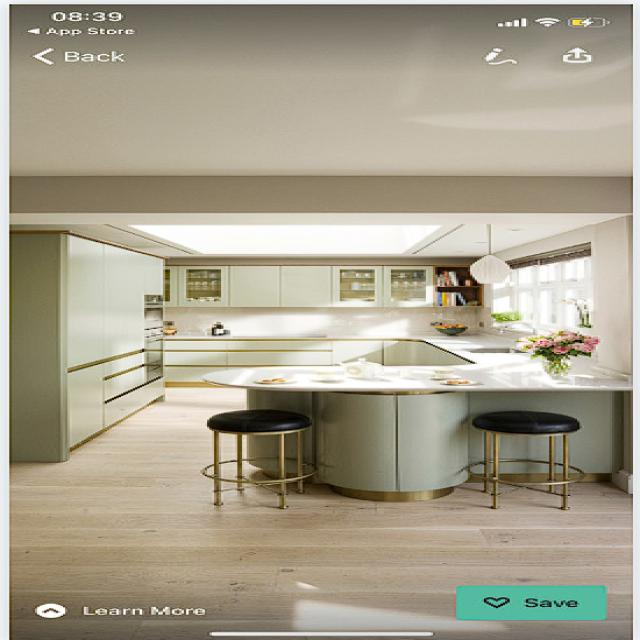button: (442, 580, 614, 626)
icon button: (12, 36, 142, 68), (466, 37, 533, 69), (548, 37, 612, 69)
image: (12, 77, 640, 560)
